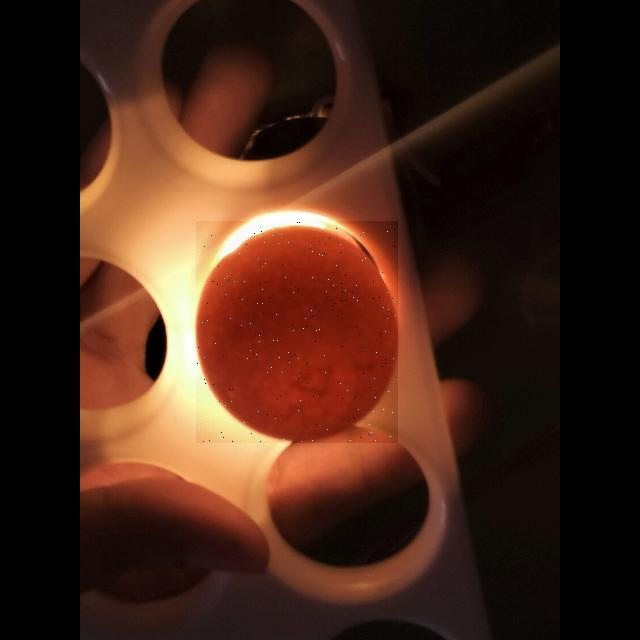Infertile: (196, 221, 398, 443)
